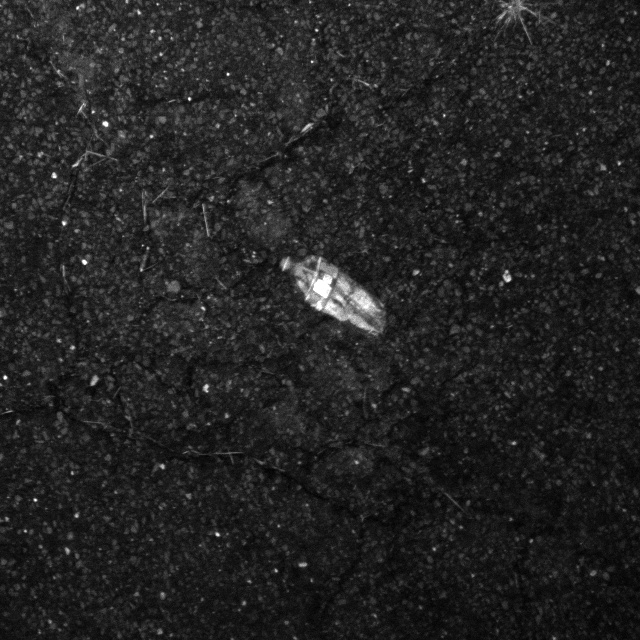bottle: (274, 247, 398, 346)
